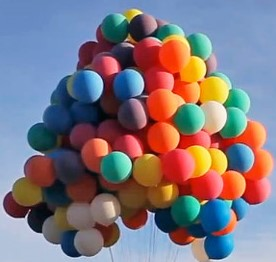Balloon: (68, 70, 103, 102), (164, 148, 195, 182), (131, 154, 163, 186), (147, 120, 179, 152), (24, 154, 56, 186), (100, 151, 131, 183), (91, 192, 121, 224), (170, 194, 200, 226), (200, 199, 230, 230), (112, 69, 143, 99), (175, 103, 204, 135), (159, 40, 188, 72), (81, 138, 109, 171), (147, 90, 177, 120), (74, 227, 104, 256), (119, 98, 147, 129), (12, 177, 43, 205), (192, 171, 223, 198), (199, 76, 228, 104), (27, 123, 56, 151), (227, 142, 253, 173), (101, 15, 129, 42), (129, 13, 158, 39), (67, 202, 94, 227)
